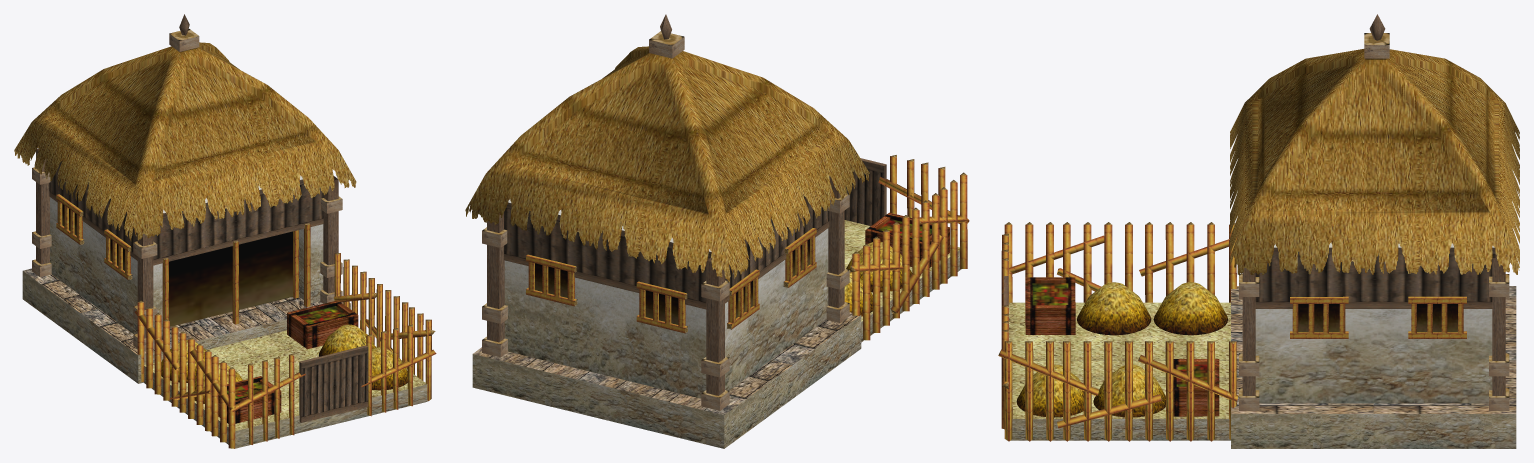
The model's file is corral.dae.
3 renders of one model, left to right at view 1: azimuth 30°, elevation 25°; view 2: azimuth 150°, elevation 25°; view 3: azimuth 270°, elevation 25°, orthographic. The views are drawn at different scales.
Visible parts, largest first — view 1: corral; view 2: corral; view 3: corral.
Part boxes in pixels (<box>): corral: <box>14,14,436,448</box>; corral: <box>465,14,969,448</box>; corral: <box>998,14,1519,448</box>.
Size of the model in its own units: 10.69 by 17.48 by 13.69.
